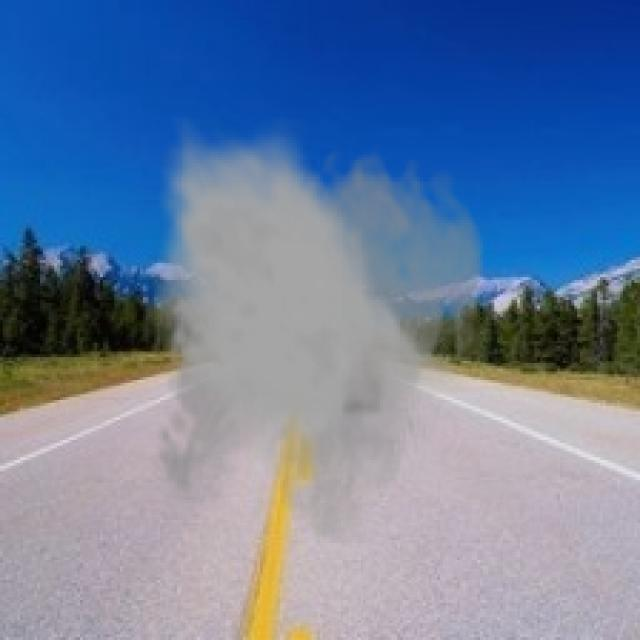Smoke: (146, 117, 488, 543)
